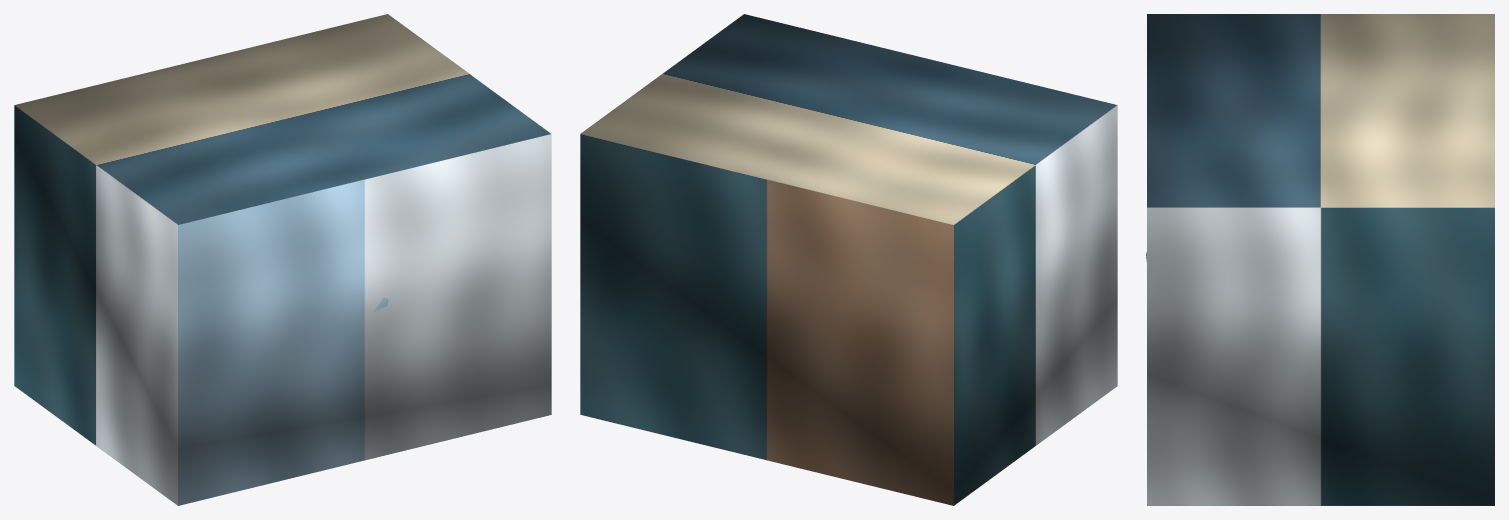
File: snowdrift.glb
3 views of the same model, side by side, from view 1: azimuth 30°, elevation 25°; view 2: azimuth 150°, elevation 25°; view 3: azimuth 270°, elevation 25° (orthographic). The views are drawn at different scales.
Parts seen in each view (by area): view 1: col; view 2: col; view 3: col.
Boxes of the visible parts, bbox=[...] form: col: bbox=[14, 14, 551, 505]; col: bbox=[580, 14, 1117, 505]; col: bbox=[1147, 14, 1494, 505].
Size of the model in its own units: 2.19 by 1.57 by 1.67.
1 material, 1 textured.
